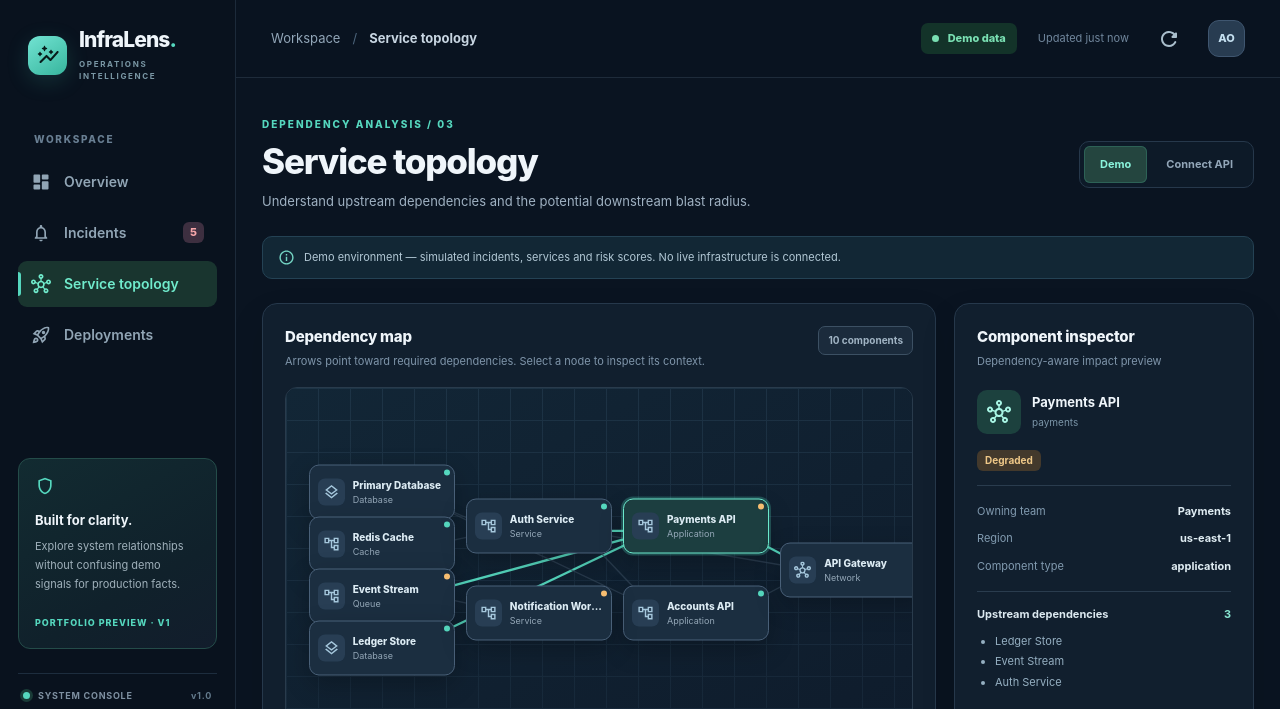
Test: operations console › topology selection updates inspected component without the backend
Click the button with aria-label "Primary Database, healthy, inspect component". click: point(382, 492)
box: 309,464 -> 455,519
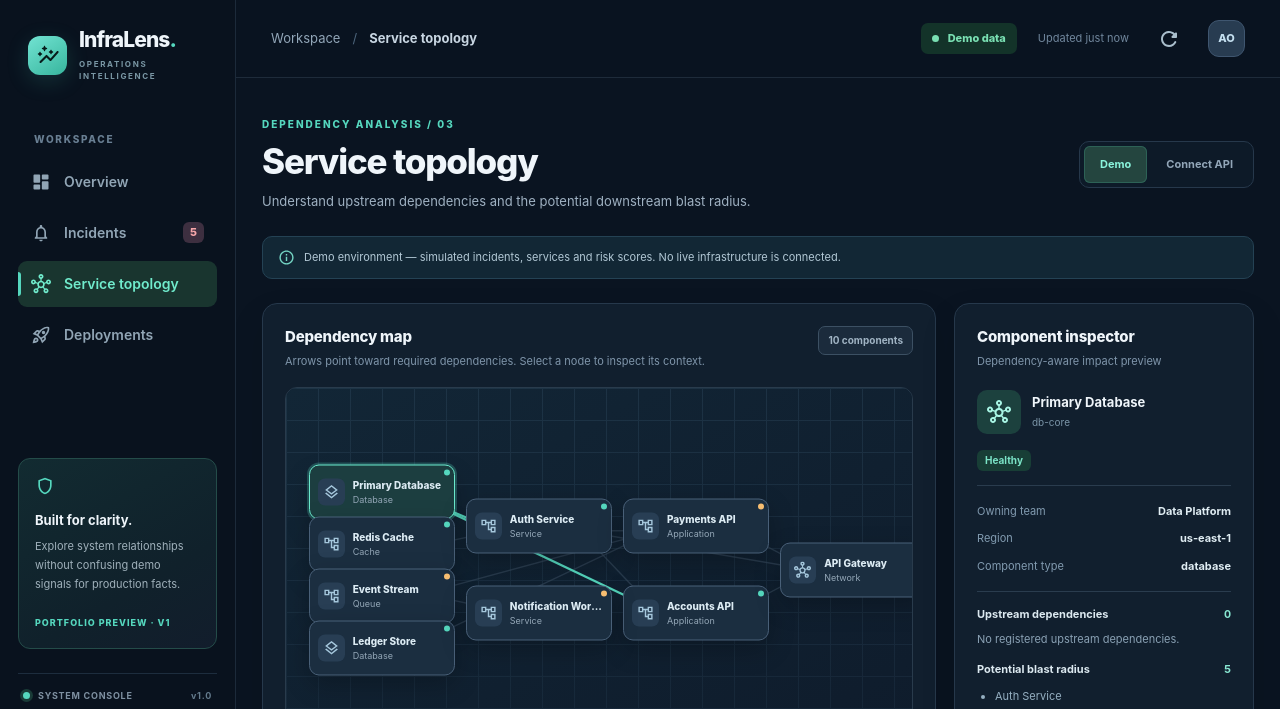
Expected: the heading "Potential blast radius 5" is shown, 977,661 -> 1231,678
Now the text "db-core" is shown, box 1032,416 -> 1070,428
